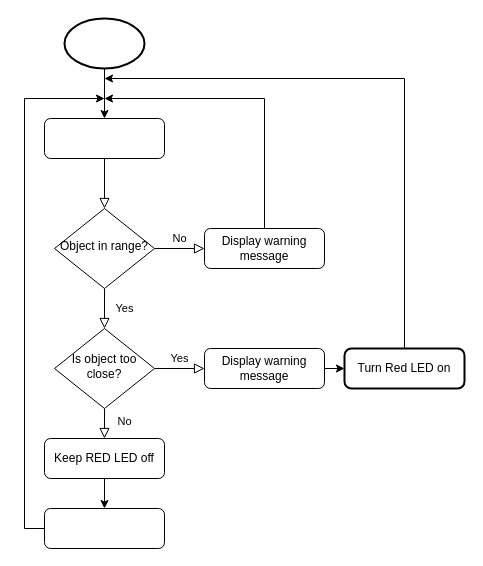
Some shapes in this 483 by 566 pixel diagram are drawn without their labels. Here are the shapes that lost their labels. From the top down, the box of each, then its label:
(63, 17, 145, 69): Start
(44, 118, 164, 158): Sensor Looks for object
(44, 508, 164, 548): Display distance from sensor
